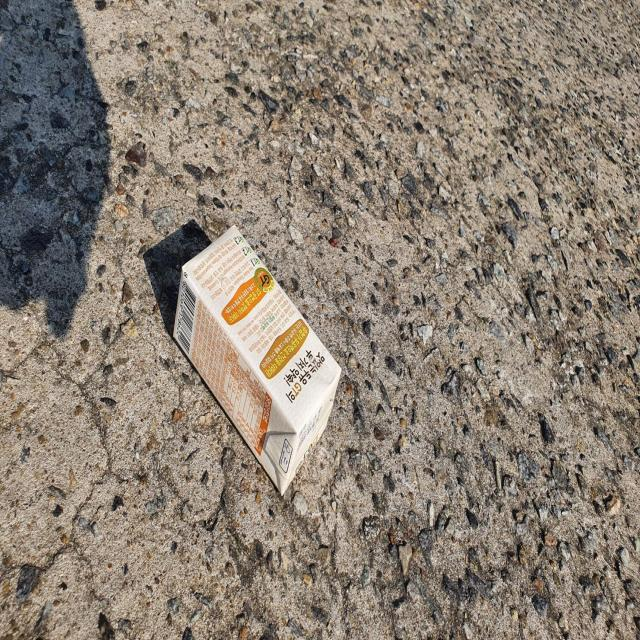paperpack: (173, 225, 341, 495)
